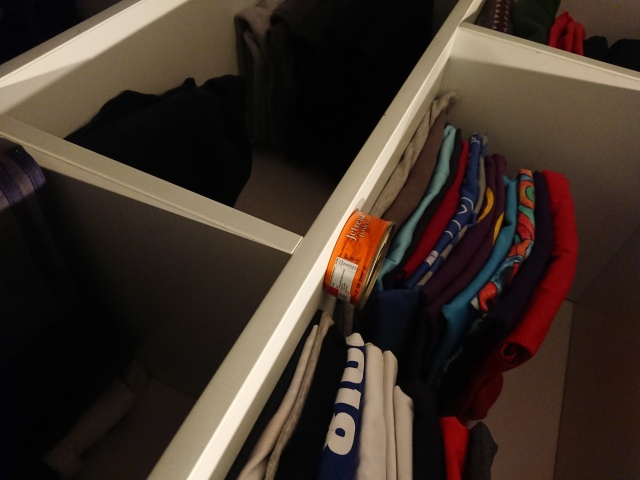Gavrilovic Pork Liver Pate 100g: (320, 207, 398, 313)
